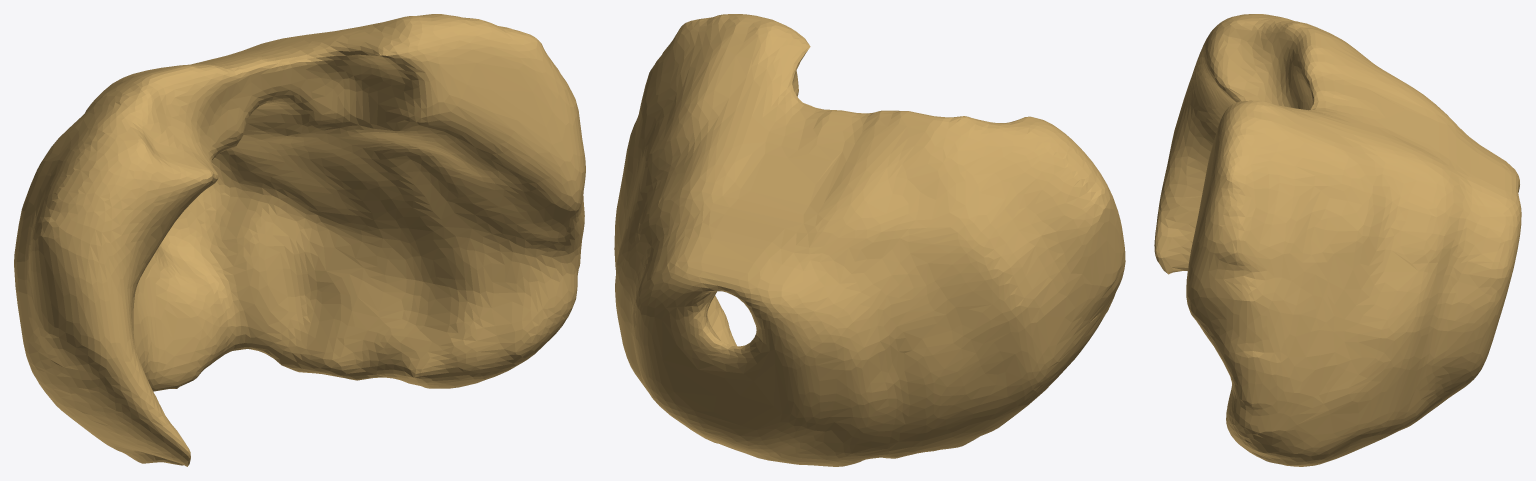
The picture shows the model from 3 angles, left to right: view 1: azimuth 30°, elevation 25°; view 2: azimuth 150°, elevation 25°; view 3: azimuth 270°, elevation 25°; orthographic projection. The views are drawn at different scales.
Visible parts, largest first — view 1: geometry_0; view 2: geometry_0; view 3: geometry_0.
Part boxes in pixels (x1,y1,x2,y2): geometry_0: [14, 14, 585, 466]; geometry_0: [614, 14, 1125, 466]; geometry_0: [1154, 14, 1521, 466].
Size of the model in its own units: 1 by 0.7154 by 0.7007.
